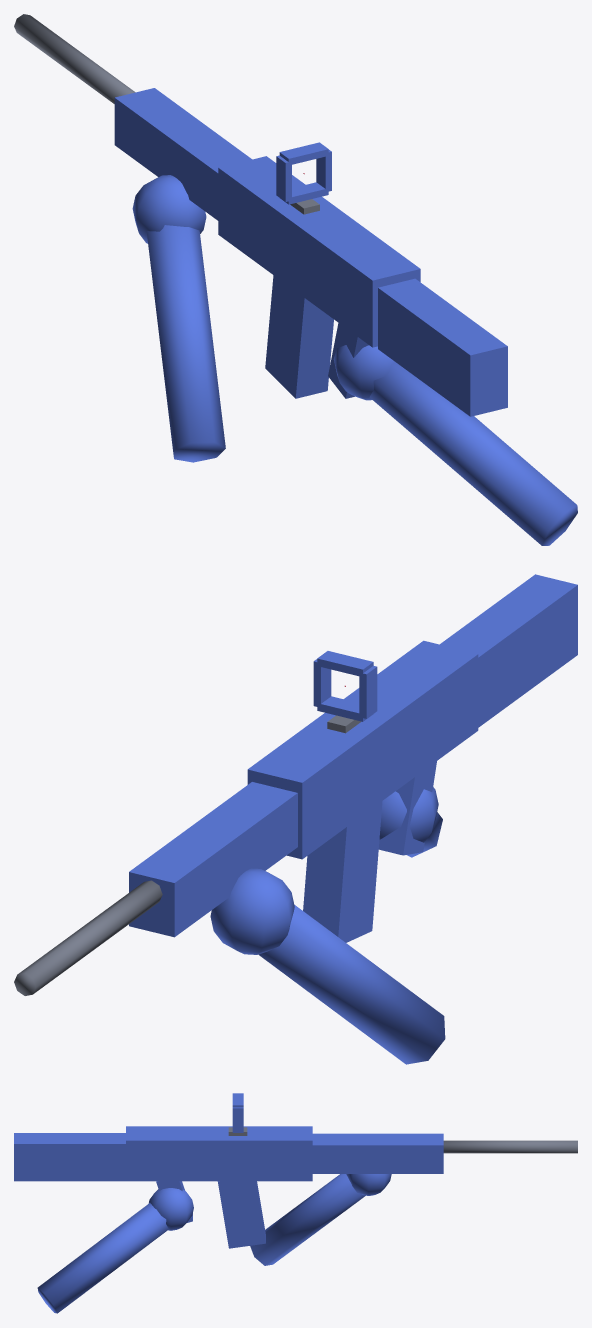
The model's file is rifle.glb.
3 views of the same model, one above another, from view 1: azimuth 30°, elevation 25°; view 2: azimuth 150°, elevation 25°; view 3: azimuth 270°, elevation 25° (orthographic). The views are drawn at different scales.
Parts seen in each view (by area): view 1: receiver, hand_L, hand_R_arm, stock, handguard, mag, hand_L_fist, barrel, hand_R_fist, grip, sight_top; view 2: receiver, handguard, hand_L, stock, mag, hand_L_fist, barrel, hand_R_fist, grip, sight_l, sight_top, sight_bot (+1 smaller); view 3: receiver, stock, handguard, hand_R_arm, hand_L, mag, barrel, hand_R_fist, hand_L_fist, sight_r.
Part boxes in pixels (x1,y1,x2,y2): receiver: (218,156,420,347); hand_L: (146,225,225,462); hand_R_arm: (369,362,577,545); stock: (378,278,507,416); handguard: (114,88,252,220); mag: (265,275,333,398); hand_L_fist: (132,175,206,243); barrel: (14,14,135,103); hand_R_fist: (333,345,394,400); grip: (328,323,368,398); sight_top: (279,142,328,165); receiver: (247,640,478,859); handguard: (129,782,297,937); hand_L: (258,905,445,1064); stock: (440,574,577,727); mag: (303,801,382,942); hand_L_fist: (210,868,294,954); barrel: (14,880,162,995); hand_R_fist: (379,787,438,842); grip: (378,761,436,855); sight_l: (359,665,377,718); sight_top: (317,651,373,676); sight_bot: (317,696,373,721); receiver: (126,1126,312,1181); stock: (14,1133,125,1181); handguard: (312,1133,443,1173); hand_R_arm: (37,1203,168,1313); hand_L: (250,1174,365,1265); mag: (217,1181,265,1248); barrel: (443,1140,577,1153); hand_R_fist: (148,1188,193,1230); hand_L_fist: (346,1174,391,1195); sight_r: (232,1107,243,1131).
Size of the model in its own units: 0.4316 by 0.5602 by 1.51.
